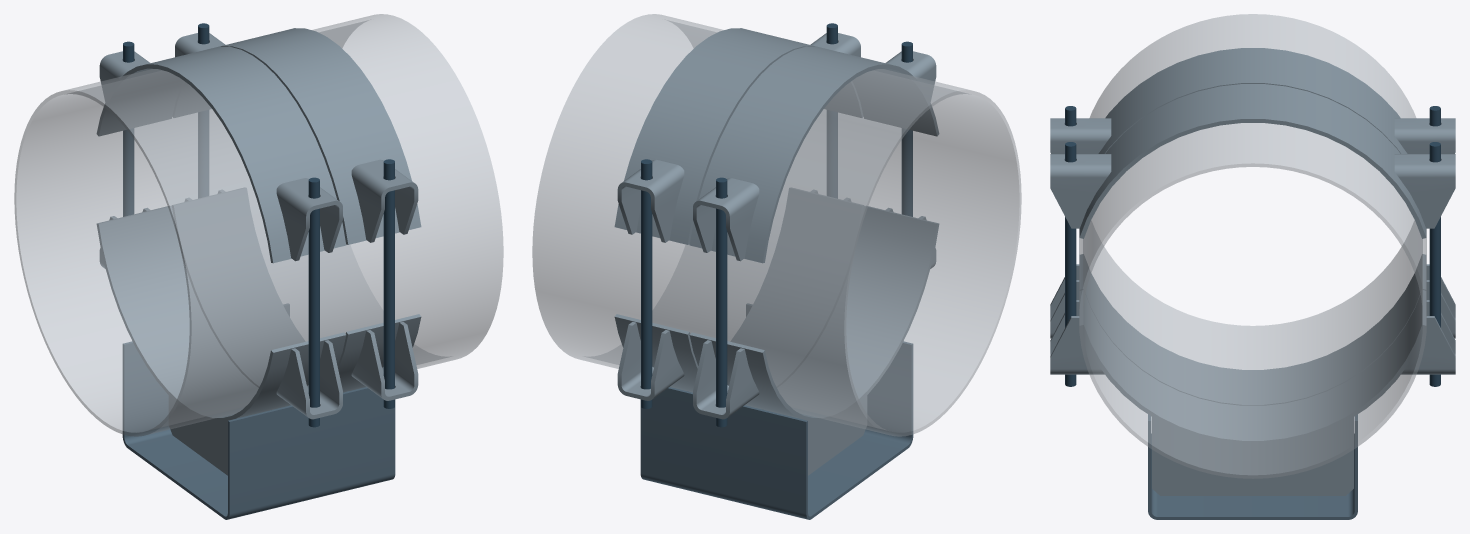
File: TS-627.00.000-028-opora-dn630-H150-L340.glb
3 renders of one model, left to right at view 1: azimuth 30°, elevation 25°; view 2: azimuth 150°, elevation 25°; view 3: azimuth 270°, elevation 25°, orthographic.
Visible parts, largest first — view 1: truba, skoba_0, podushka_4, bugel0_podushka_0, podushka_5, bugel1_podushka_0, bugel1_ushko_2, bugel0_ushko_2, ushko_9, ushko_7, shpilka_1_-1, shpilka_0_-1 (+5 smaller); view 2: truba, skoba_0, podushka_4, bugel0_podushka_0, podushka_5, bugel1_podushka_0, bugel1_ushko_1, bugel0_ushko_1, ushko_8, ushko_6, shpilka_1_1, shpilka_0_1 (+5 smaller); view 3: truba, podushka_5, podushka_4, bugel1_podushka_0, rebro4_2, bugel0_podushka_0, skoba_0, bugel1_ushko_1, bugel1_ushko_2, ushko_8, ushko_9, bugel0_ushko_1 (+5 smaller).
Boxes of the visible parts, left/top/right/bottom form: truba: left=14, top=14, right=503, bottom=436; skoba_0: left=122, top=304, right=395, bottom=519; podushka_4: left=96, top=206, right=346, bottom=422; bugel0_podushka_0: left=96, top=46, right=346, bottom=263; podushka_5: left=172, top=188, right=421, bottom=392; bugel1_podushka_0: left=173, top=28, right=421, bottom=244; bugel1_ushko_2: left=351, top=159, right=418, bottom=242; bugel0_ushko_2: left=276, top=178, right=342, bottom=261; ushko_9: left=351, top=322, right=418, bottom=400; ushko_7: left=276, top=340, right=342, bottom=419; shpilka_1_-1: left=383, top=159, right=394, bottom=408; shpilka_0_-1: left=308, top=177, right=319, bottom=427; truba: left=532, top=14, right=1021, bottom=436; skoba_0: left=640, top=304, right=913, bottom=519; podushka_4: left=689, top=206, right=939, bottom=422; bugel0_podushka_0: left=689, top=46, right=939, bottom=263; podushka_5: left=614, top=188, right=863, bottom=392; bugel1_podushka_0: left=614, top=28, right=862, bottom=244; bugel1_ushko_1: left=617, top=159, right=684, bottom=242; bugel0_ushko_1: left=693, top=178, right=759, bottom=261; ushko_8: left=617, top=322, right=684, bottom=400; ushko_6: left=693, top=340, right=759, bottom=419; shpilka_1_1: left=641, top=159, right=652, bottom=408; shpilka_0_1: left=716, top=177, right=727, bottom=427; truba: left=1079, top=14, right=1426, bottom=478; podushka_5: left=1079, top=290, right=1426, bottom=444; podushka_4: left=1079, top=254, right=1426, bottom=405; bugel1_podushka_0: left=1079, top=84, right=1426, bottom=238; rebro4_2: left=1152, top=417, right=1353, bottom=495; bugel0_podushka_0: left=1098, top=48, right=1407, bottom=153; skoba_0: left=1148, top=414, right=1357, bottom=519; bugel1_ushko_1: left=1394, top=154, right=1455, bottom=228; bugel1_ushko_2: left=1050, top=154, right=1111, bottom=228; ushko_8: left=1401, top=300, right=1455, bottom=374; ushko_9: left=1050, top=300, right=1104, bottom=374; bugel0_ushko_1: left=1394, top=118, right=1455, bottom=153.
Size of the model in its own units: 640 by 792 by 733.
